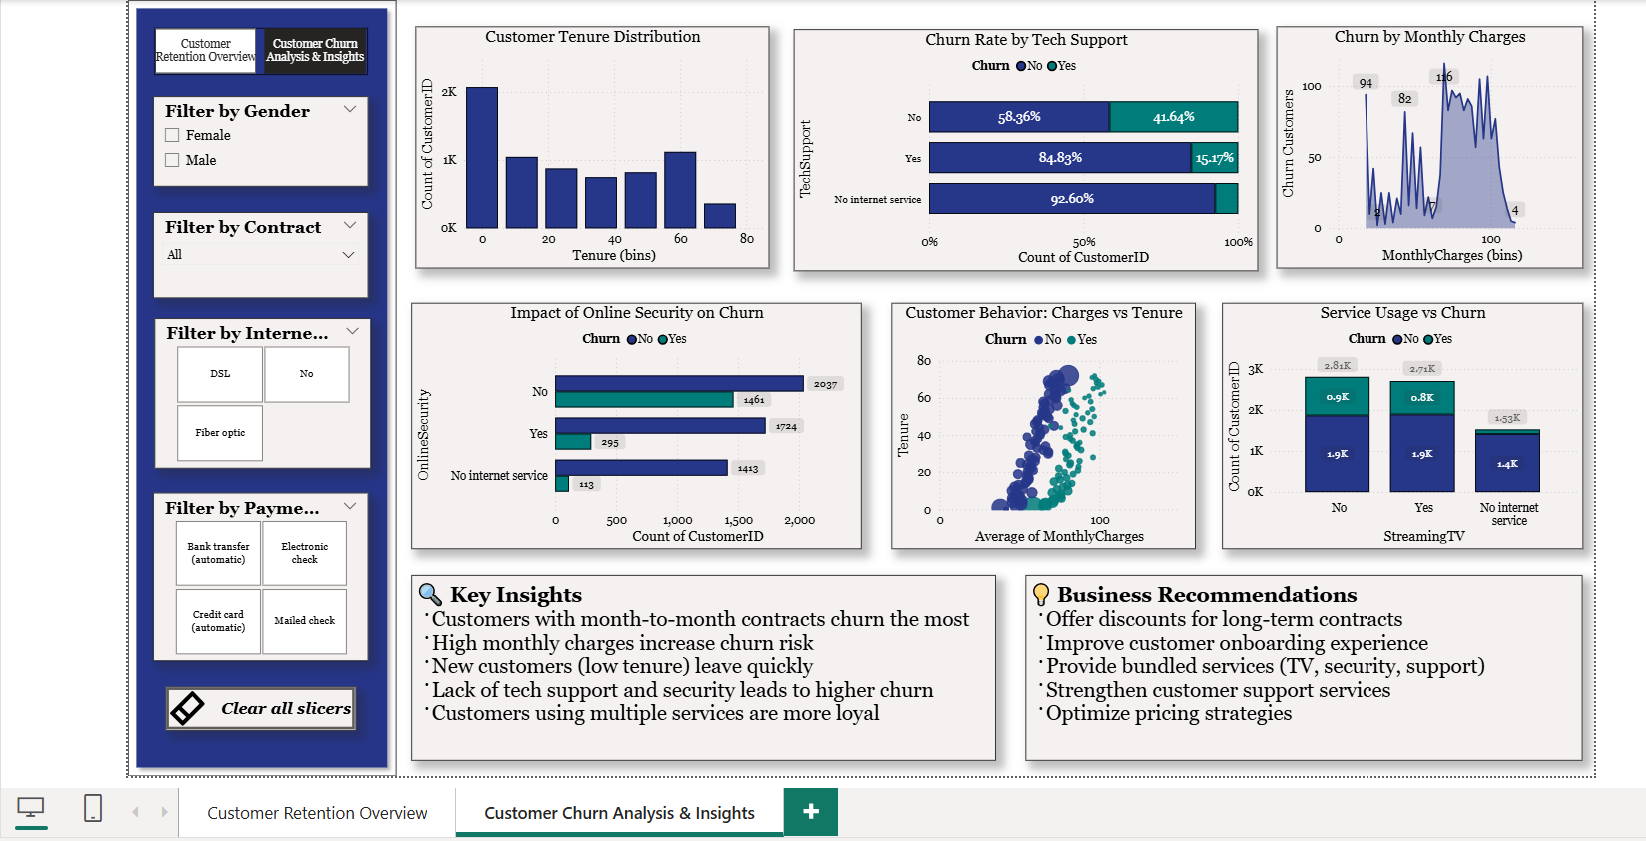

This screenshot's page, from the dashboard's own definition file:
{"tool":"powerbi","page":{"name":"Customer Churn Analysis & Insights","canvas":[1700,900],"ordinal":1},"visuals":[{"type":"shape","box":[0,0,310.6,899.3],"z":0},{"type":"clusteredColumnChart","title":"Customer Tenure Distribution","fields":{"Category":["Telecom Customer Churn Dataset.Tenure (bins)"],"Y":["CountNonNull(Telecom Customer Churn Dataset.CustomerID)"]},"box":[332.5,31.5,409.9,279.9],"z":1000},{"type":"areaChart","title":"Churn by Monthly Charges","fields":{"Category":["Telecom Customer Churn Dataset.MonthlyCharges (bins)"],"Y":["Telecom Customer Churn Dataset.Churn Customers"]},"box":[1331.2,31.5,355.8,279.9],"z":2000},{"type":"hundredPercentStackedBarChart","title":"Churn Rate by Tech Support","fields":{"Category":["Telecom Customer Churn Dataset.TechSupport"],"Series":["Telecom Customer Churn Dataset.Churn"],"Y":["CountNonNull(Telecom Customer Churn Dataset.CustomerID)"]},"box":[771.4,33.3,538.1,279.9],"z":3000},{"type":"columnChart","title":"Service Usage vs Churn","fields":{"Category":["Telecom Customer Churn Dataset.StreamingTV"],"Series":["Telecom Customer Churn Dataset.Churn"],"Y":["CountNonNull(Telecom Customer Churn Dataset.CustomerID)"]},"box":[1267.7,350.3,419,285.3],"z":4000},{"type":"scatterChart","title":"Customer Behavior: Charges vs Tenure","fields":{"X":["Avg(Telecom Customer Churn Dataset.MonthlyCharges)"],"Y":["Telecom Customer Churn Dataset.Tenure"],"Size":["Count(Telecom Customer Churn Dataset.CustomerID)"],"Series":["Telecom Customer Churn Dataset.Churn"]},"box":[884.9,350.6,352.1,285.3],"z":5000},{"type":"slicer","fields":{"Values":["Telecom Customer Churn Dataset.Gender"]},"box":[29.4,112.1,249.2,104.7],"z":6000},{"type":"slicer","fields":{"Values":["Telecom Customer Churn Dataset.Contract"]},"box":[29.4,245.7,249.2,99.3],"z":7000},{"type":"slicer","fields":{"Values":["Telecom Customer Churn Dataset.InternetService"]},"box":[30.7,368.6,250.5,174.1],"z":8000},{"type":"slicer","fields":{"Values":["Telecom Customer Churn Dataset.PaymentMethod"]},"box":[29.4,570.2,249.2,195],"z":9000},{"type":"actionButton","box":[43.9,794.7,220.3,50.6],"z":10000},{"type":"textbox","box":[328.7,666.4,677.2,214.9],"z":11000},{"type":"textbox","box":[1040.2,666.4,646.5,214.9],"z":12000},{"type":"clusteredBarChart","title":"Impact of Online Security on Churn","fields":{"Category":["Telecom Customer Churn Dataset.OnlineSecurity"],"Y":["CountNonNull(Telecom Customer Churn Dataset.CustomerID)"],"Series":["Telecom Customer Churn Dataset.Churn"]},"box":[328.7,350.6,521.9,285.3],"z":13000},{"type":"pageNavigator","box":[30.7,32.5,247.4,54.2],"z":14000}]}

Visuals, with their boxes on the page's 1700x900 design canvas (x1, y1, x2, y2). These are canvas units, not pixel positions in the 1646x841 screenshot, which may show the page scaled, cropped or inside an application window:
shape: bbox(0, 0, 311, 899)
"Customer Tenure Distribution" clusteredColumnChart: bbox(332, 32, 742, 311)
"Churn by Monthly Charges" areaChart: bbox(1331, 32, 1687, 311)
"Churn Rate by Tech Support" hundredPercentStackedBarChart: bbox(771, 33, 1310, 313)
"Service Usage vs Churn" columnChart: bbox(1268, 350, 1687, 636)
"Customer Behavior: Charges vs Tenure" scatterChart: bbox(885, 351, 1237, 636)
slicer - Telecom Customer Churn Dataset.Gender: bbox(29, 112, 279, 217)
slicer - Telecom Customer Churn Dataset.Contract: bbox(29, 246, 279, 345)
slicer - Telecom Customer Churn Dataset.InternetService: bbox(31, 369, 281, 543)
slicer - Telecom Customer Churn Dataset.PaymentMethod: bbox(29, 570, 279, 765)
actionButton: bbox(44, 795, 264, 845)
textbox: bbox(329, 666, 1006, 881)
textbox: bbox(1040, 666, 1687, 881)
"Impact of Online Security on Churn" clusteredBarChart: bbox(329, 351, 851, 636)
pageNavigator: bbox(31, 32, 278, 87)
